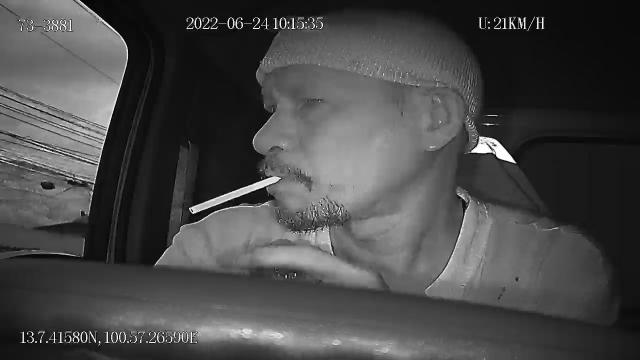Cigarette: (188, 173, 286, 217)
